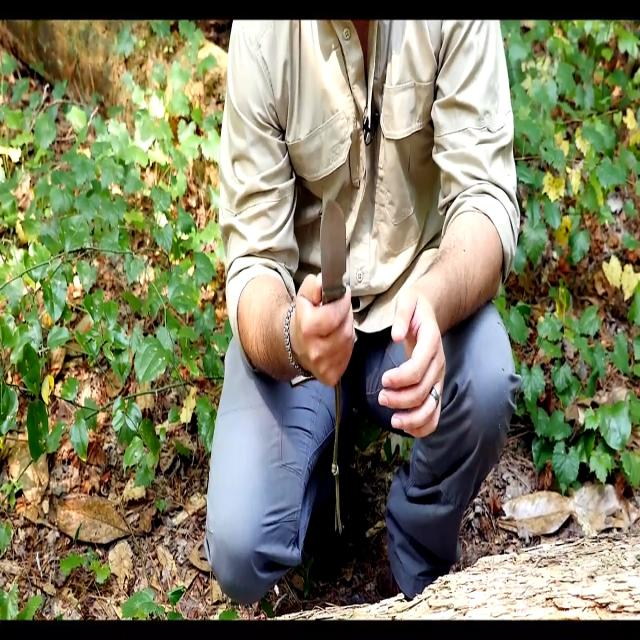knife: (320, 195, 349, 302)
